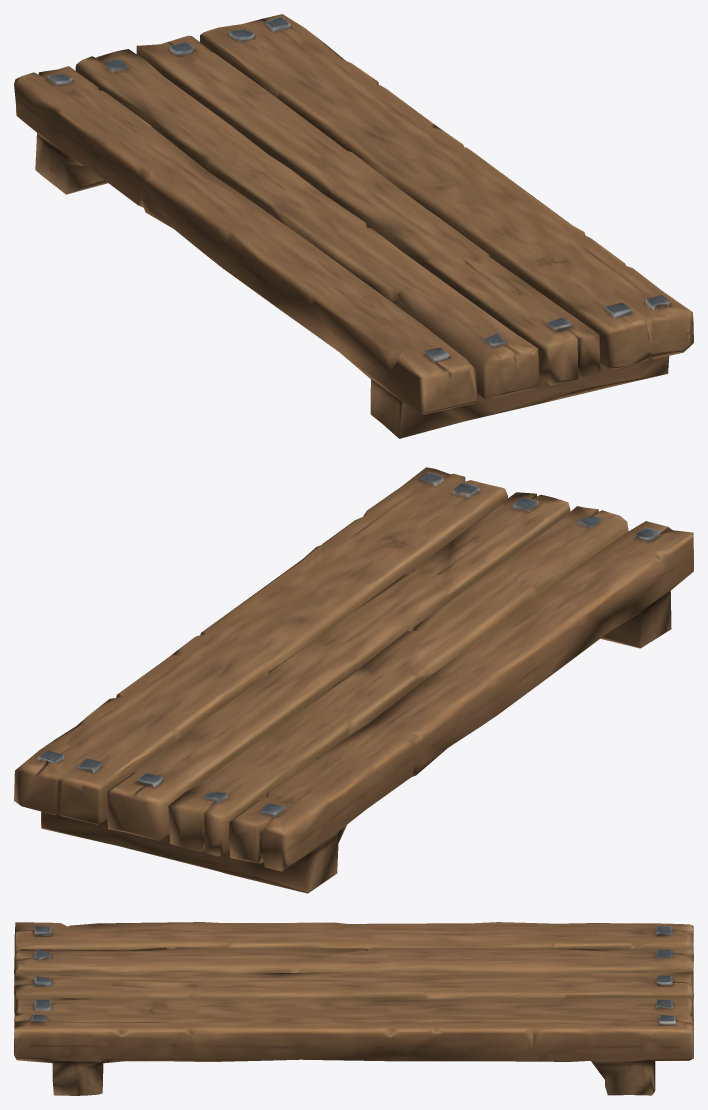
Rendered from textures.glb.
The picture shows the model from 3 angles, top to bottom: view 1: azimuth 30°, elevation 25°; view 2: azimuth 150°, elevation 25°; view 3: azimuth 270°, elevation 25°; orthographic projection. The views are drawn at different scales.
Parts seen in each view (by area): view 1: tripo_node_031f3df9-8ede-4bee-b309-ba51c05955ec; view 2: tripo_node_031f3df9-8ede-4bee-b309-ba51c05955ec; view 3: tripo_node_031f3df9-8ede-4bee-b309-ba51c05955ec.
Part boxes in pixels (x1=…): tripo_node_031f3df9-8ede-4bee-b309-ba51c05955ec: x1=14, y1=14, x2=693, y2=438; tripo_node_031f3df9-8ede-4bee-b309-ba51c05955ec: x1=14, y1=467, x2=693, y2=893; tripo_node_031f3df9-8ede-4bee-b309-ba51c05955ec: x1=14, y1=922, x2=693, y2=1095.
Size of the model in its own units: 0.3823 by 0.1147 by 1.
1 material, 1 textured.
